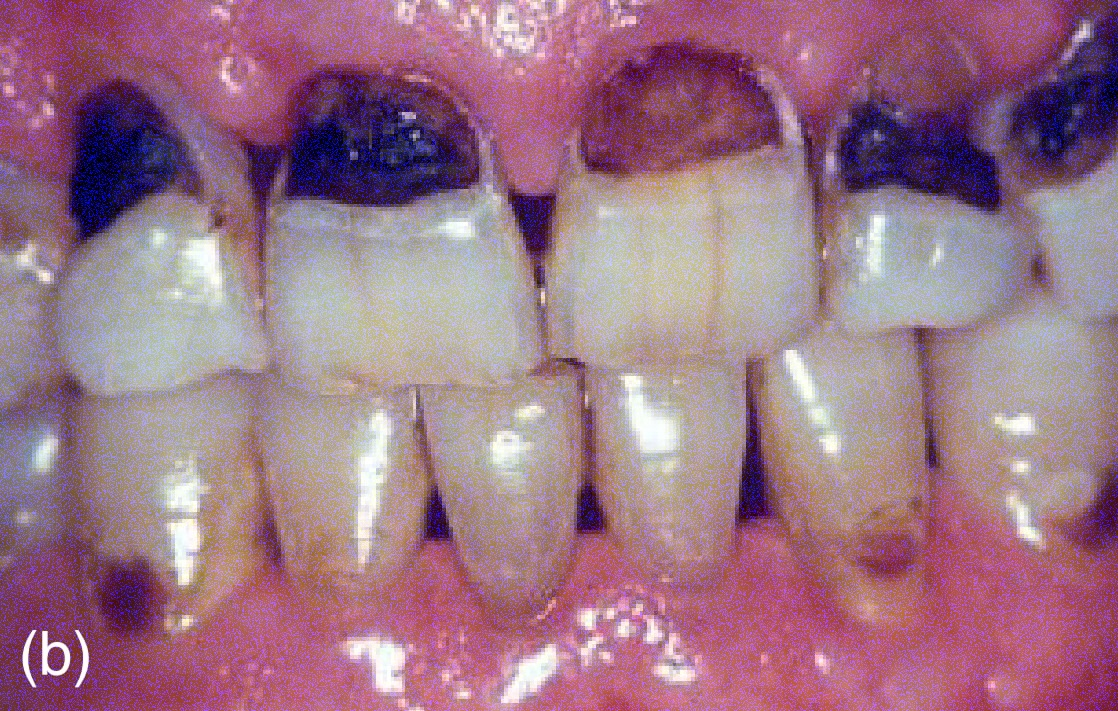karies: (273, 70, 491, 206), (571, 50, 785, 169), (70, 80, 210, 227), (828, 79, 994, 198), (1010, 25, 1118, 180), (1033, 468, 1118, 566), (843, 517, 930, 595), (98, 550, 171, 639)
